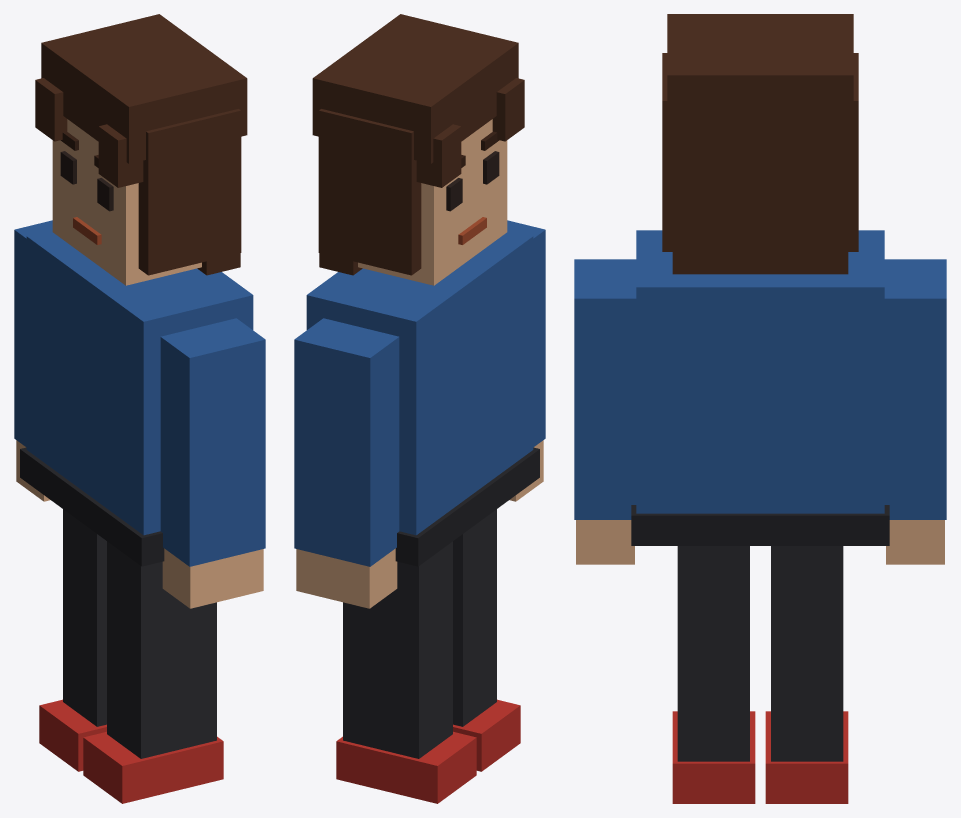
Rendered from bowling_desk.glb.
The picture shows the model from 3 angles, left to right: view 1: azimuth 30°, elevation 25°; view 2: azimuth 150°, elevation 25°; view 3: azimuth 270°, elevation 25°; orthographic projection. The views are drawn at different scales.
Parts seen in each view (by area): view 1: Box9, Box3, Box1, Box18, Box19, Box5, Box12, Box2, Box10, Box4, Box7, Box6 (+5 smaller); view 2: Box9, Box7, Box5, Box18, Box21, Box1, Box12, Box6, Box10, Box8, Box3, Box2 (+5 smaller); view 3: Box9, Box23, Box18, Box3, Box7, Box1, Box5, Box10, Box2, Box6, Box4, Box8 (+2 smaller).
Boxes of the visible parts, <box> form: Box9: <box>26,230,253,535</box>; Box3: <box>160,318,265,566</box>; Box1: <box>107,541,216,758</box>; Box18: <box>41,14,247,163</box>; Box19: <box>138,109,241,275</box>; Box5: <box>63,509,106,726</box>; Box12: <box>52,119,201,285</box>; Box2: <box>83,731,223,803</box>; Box10: <box>20,447,164,566</box>; Box4: <box>162,548,263,608</box>; Box7: <box>14,220,52,447</box>; Box6: <box>39,699,106,771</box>; Box9: <box>306,230,533,535</box>; Box7: <box>294,318,399,566</box>; Box5: <box>343,541,452,758</box>; Box18: <box>312,14,518,163</box>; Box21: <box>318,109,421,275</box>; Box1: <box>453,509,496,726</box>; Box12: <box>358,119,507,285</box>; Box6: <box>336,731,476,803</box>; Box10: <box>395,447,539,566</box>; Box8: <box>296,548,397,608</box>; Box3: <box>507,220,545,447</box>; Box2: <box>453,699,520,771</box>; Box9: <box>636,230,884,513</box>; Box23: <box>672,135,848,274</box>; Box18: <box>667,14,853,135</box>; Box3: <box>574,259,636,519</box>; Box7: <box>884,259,946,519</box>; Box1: <box>677,546,749,761</box>; Box5: <box>771,546,843,761</box>; Box10: <box>631,505,889,545</box>; Box2: <box>672,711,755,803</box>; Box6: <box>765,711,848,803</box>; Box4: <box>576,520,634,564</box>; Box8: <box>886,520,944,564</box>.
Bounding box in the file's own units: 0.3402 × 1.79 × 0.8165.
